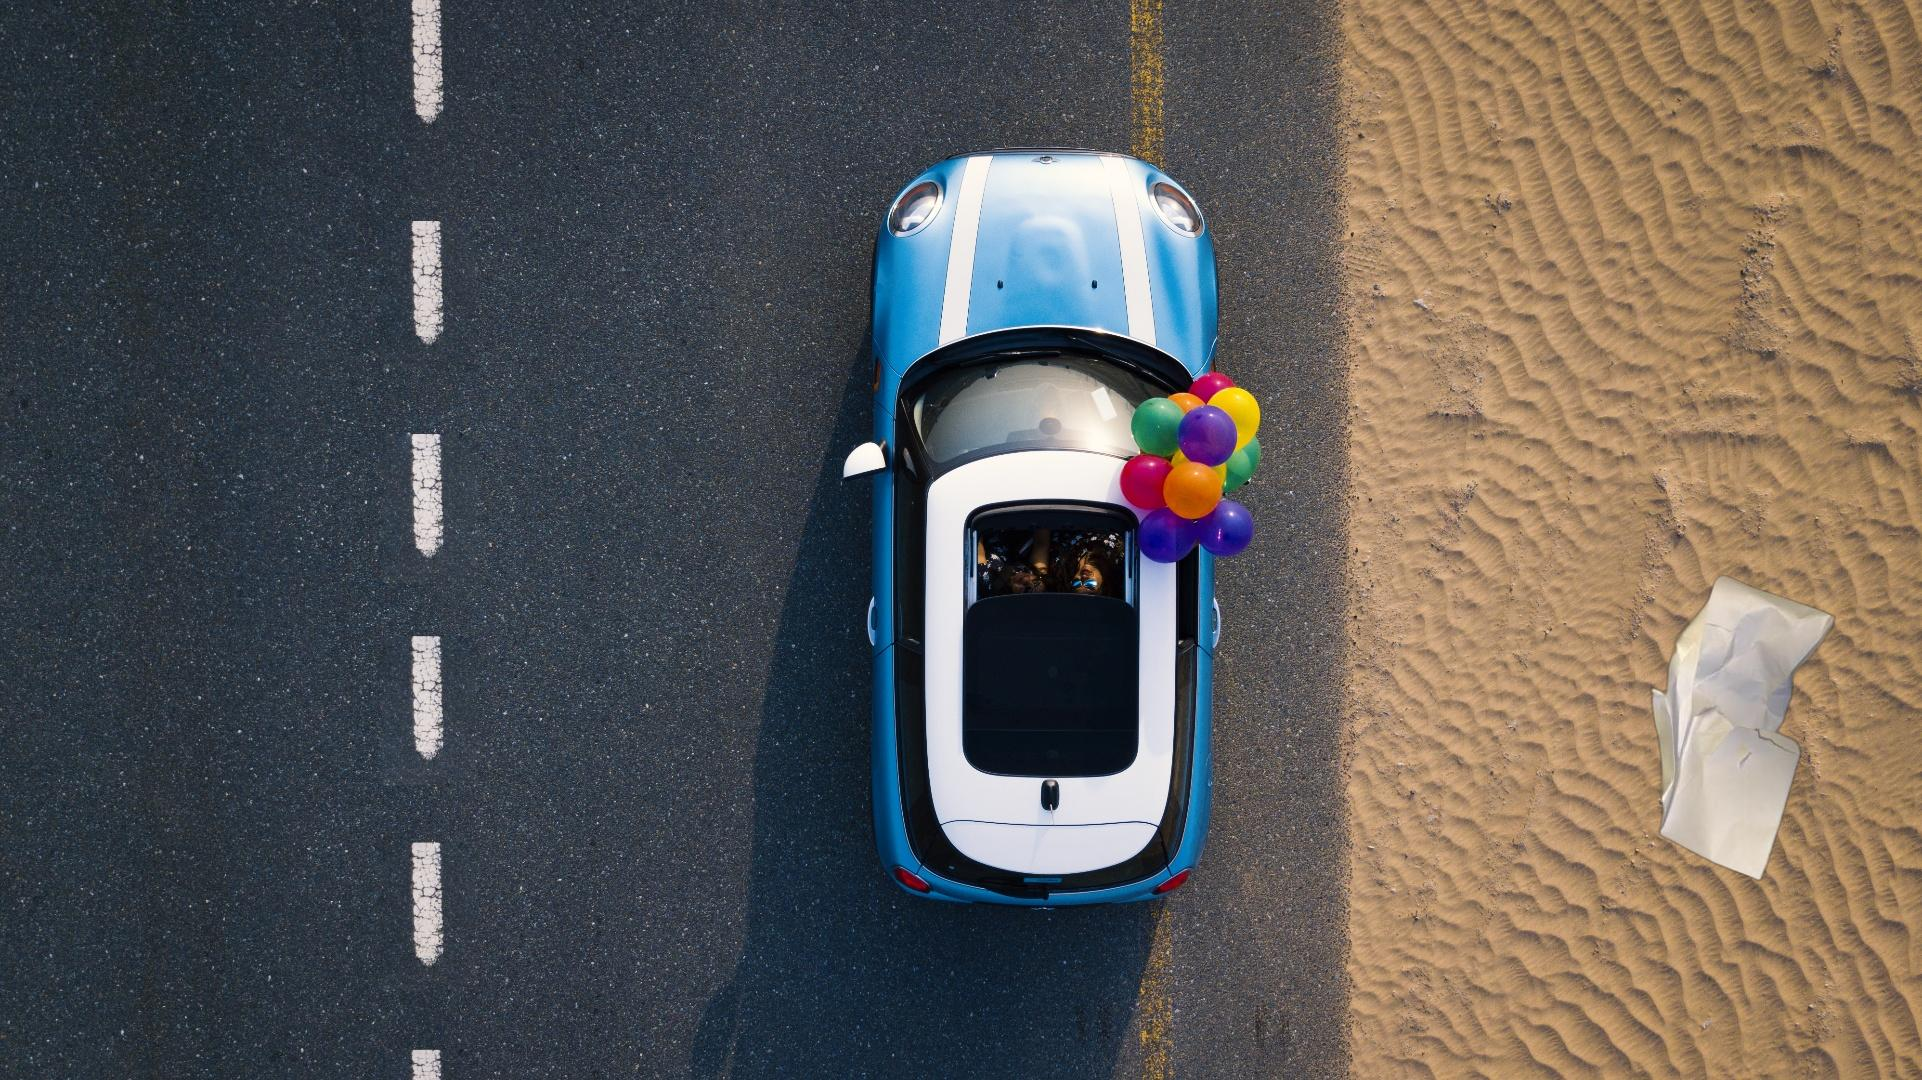paper: (1646, 572, 1840, 883)
